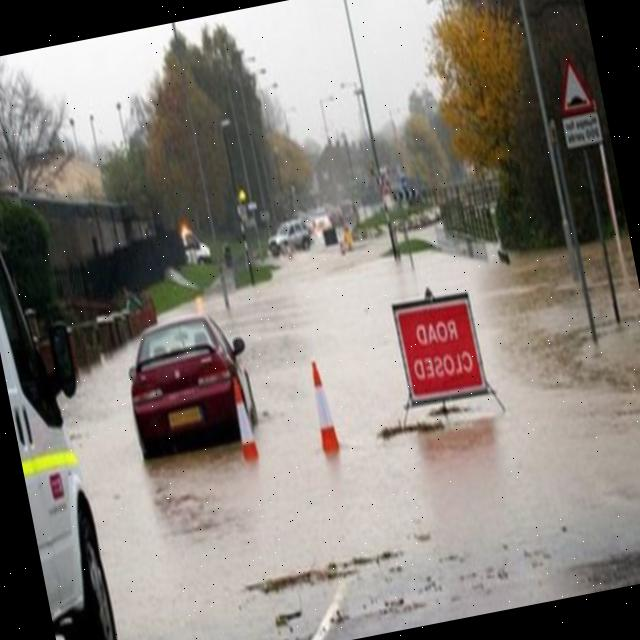car: (0, 191, 133, 640), (116, 300, 263, 462), (266, 216, 314, 258)
